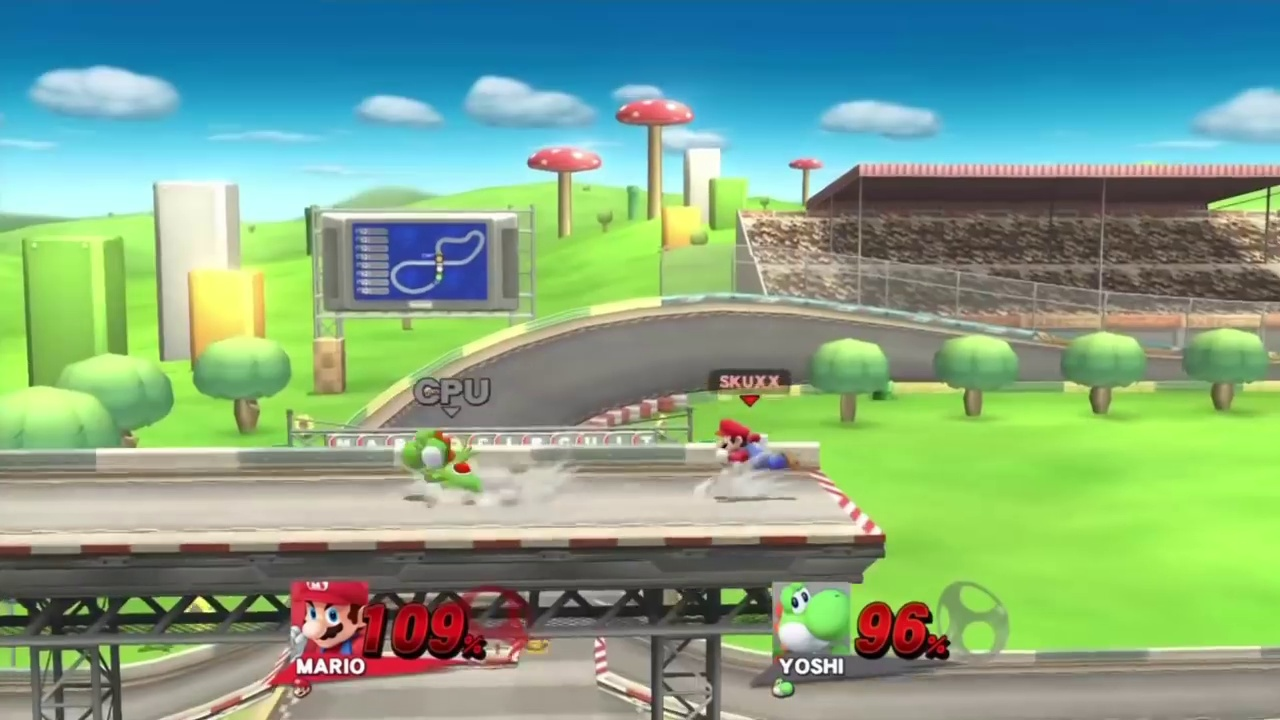Mario: (708, 417, 800, 483)
